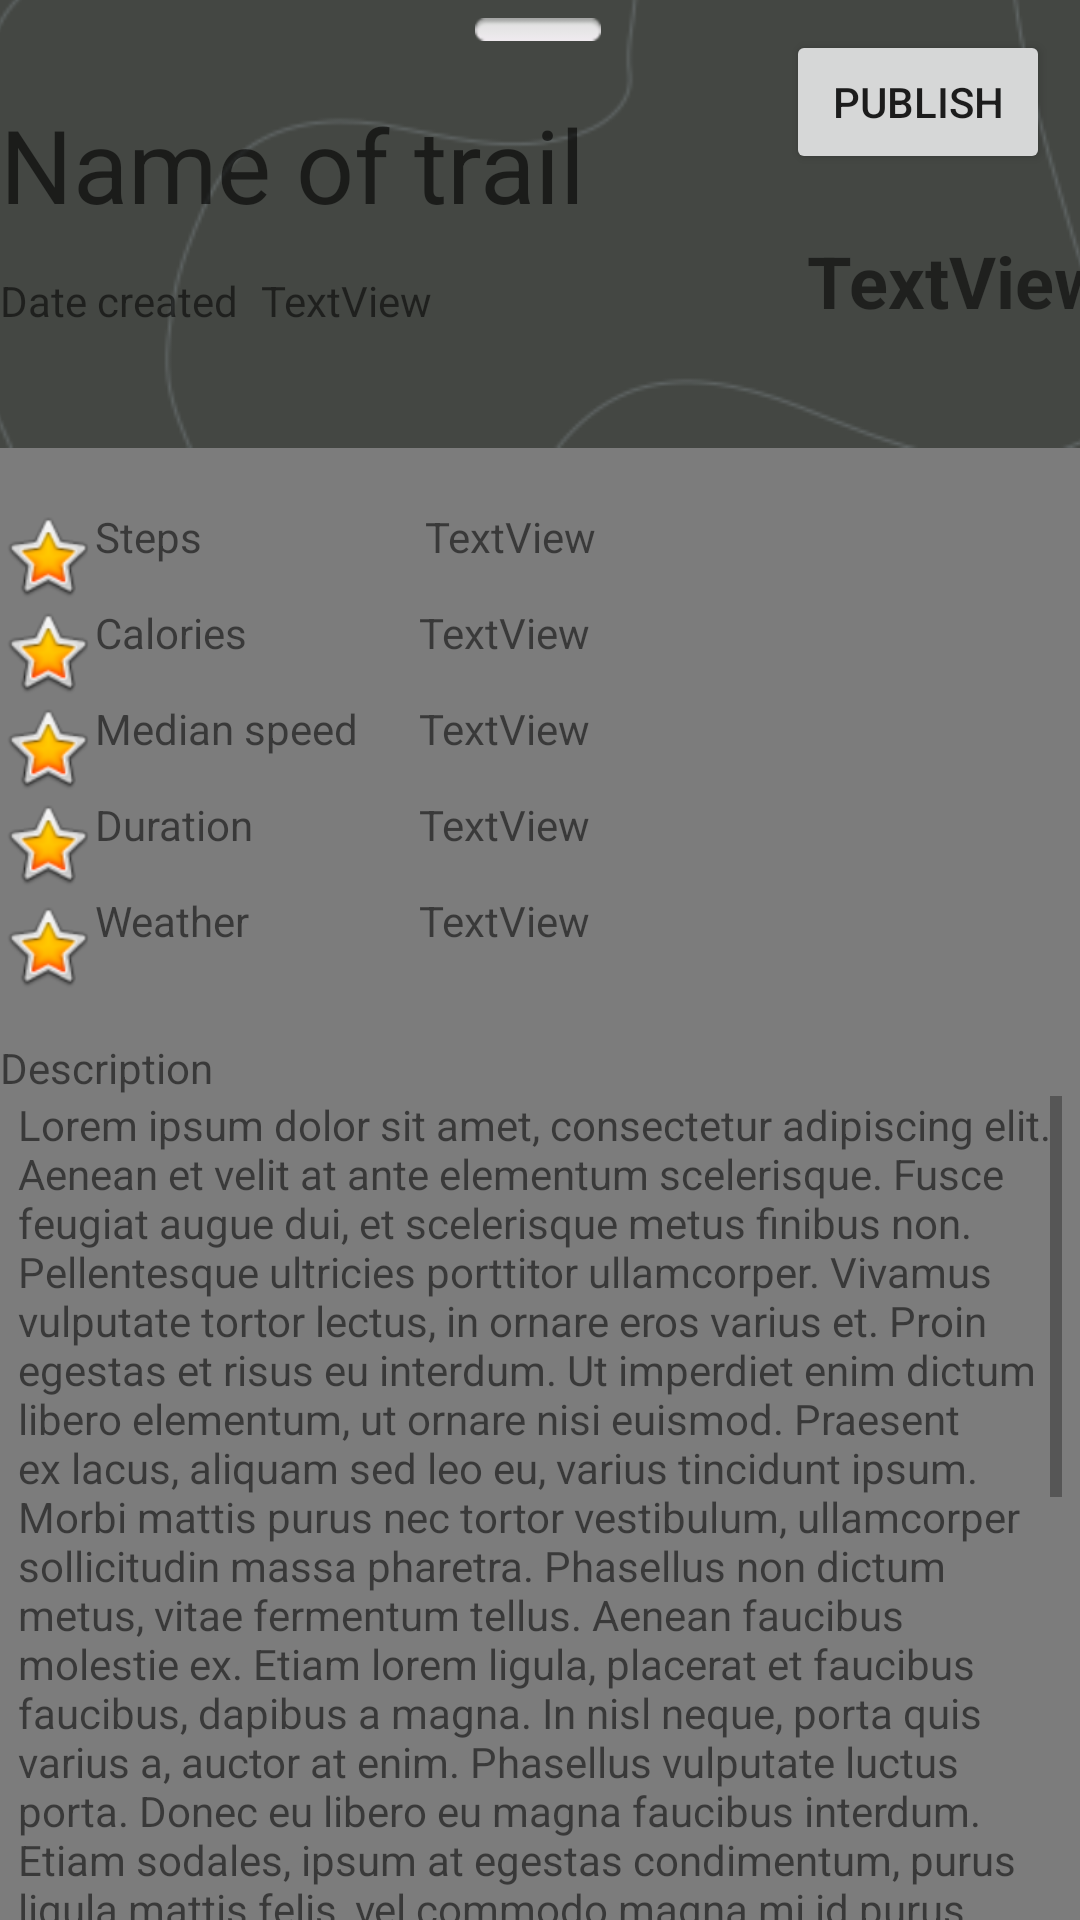

Point at icon controls on the screen. Image size 1080px×1920px, points as (x=x, y=y).
star on: (x=48, y=557), (x=48, y=653), (x=48, y=749), (x=48, y=845), (x=48, y=947)
